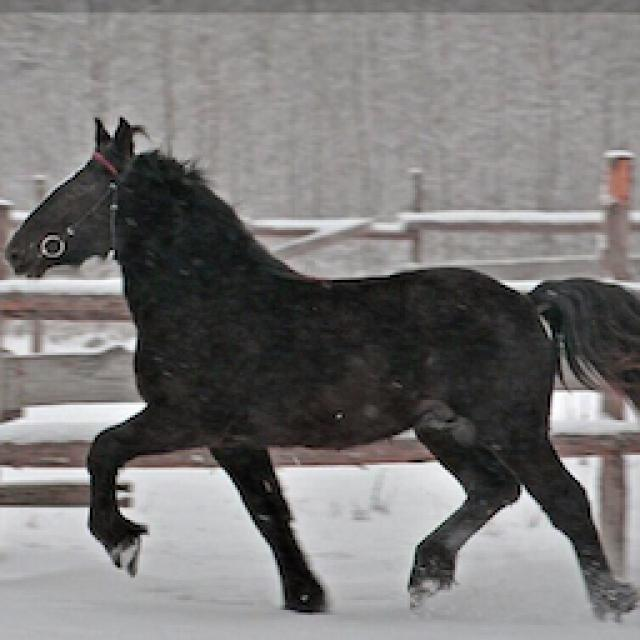Horse: (0, 110, 638, 625)
